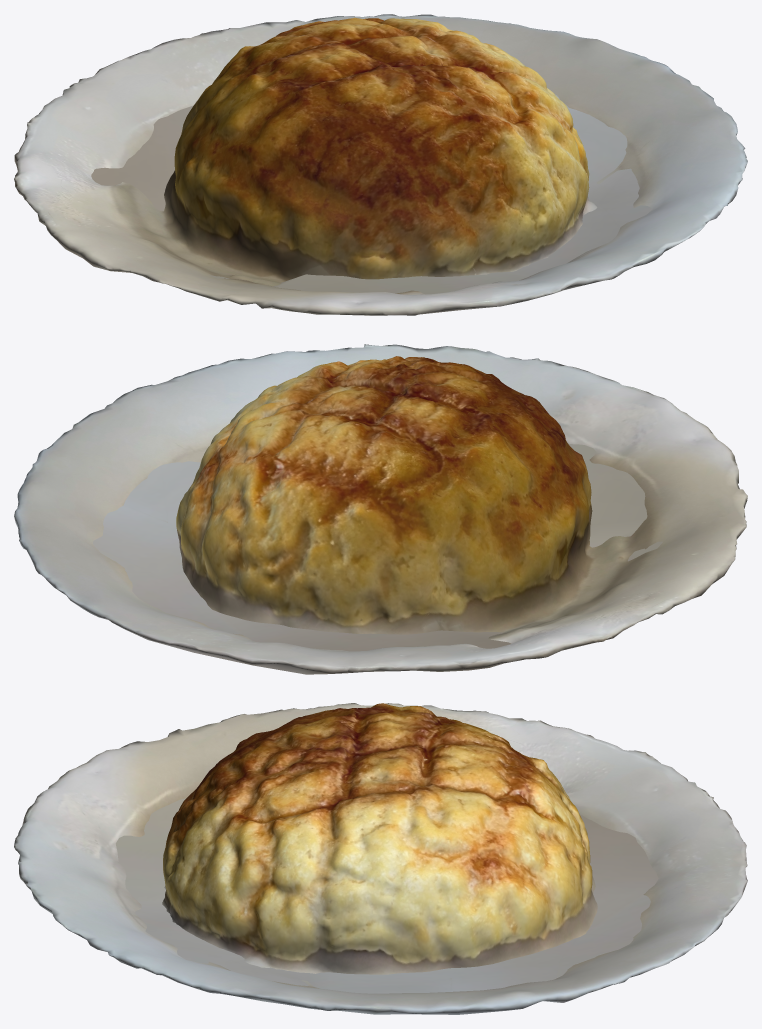
3 views of the same model, one above another, from view 1: azimuth 30°, elevation 25°; view 2: azimuth 150°, elevation 25°; view 3: azimuth 270°, elevation 25° (orthographic).
Visible parts, largest first — view 1: ObjectCapture; view 2: ObjectCapture; view 3: ObjectCapture.
Boxes of the visible parts, x1,y1,x2,y2 form: ObjectCapture: [14, 14, 747, 315]; ObjectCapture: [14, 344, 747, 674]; ObjectCapture: [14, 703, 747, 1014].
Size of the model in its own units: 0.1983 by 0.0495 by 0.1992.
Materials: 1 (1 with a texture image).
